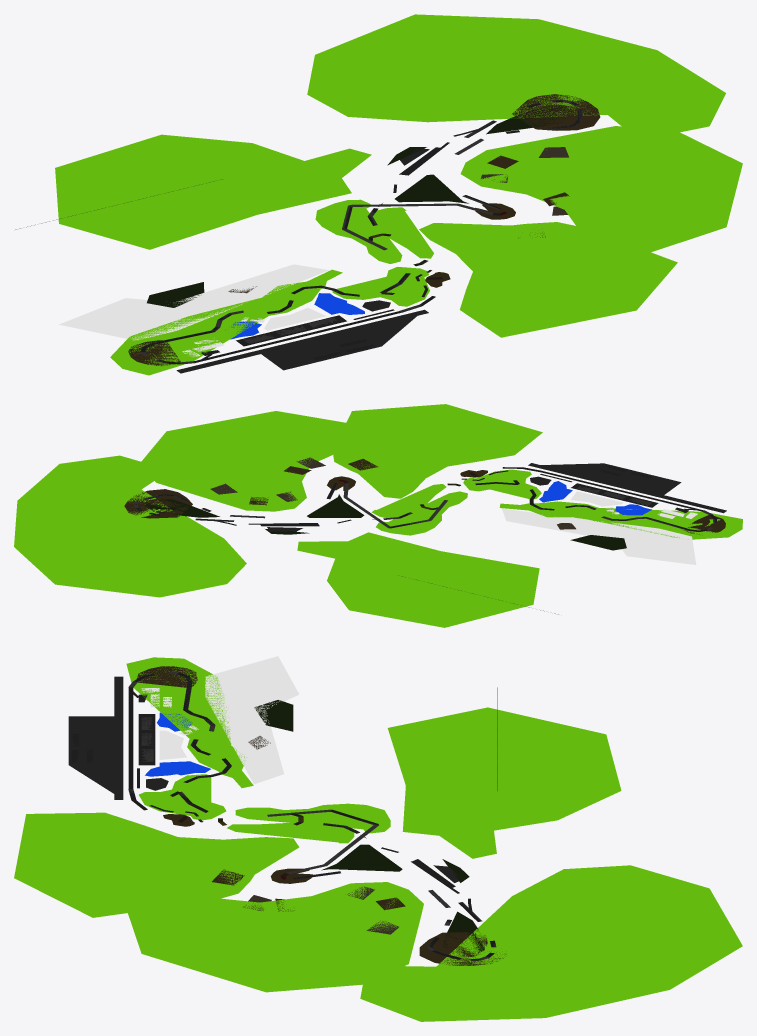
The model's file is suzuka.obj.
3 views of the same model, one above another, from view 1: azimuth 30°, elevation 25°; view 2: azimuth 150°, elevation 25°; view 3: azimuth 270°, elevation 25° (orthographic). The views are drawn at different scales.
Parts seen in each view (by area): view 1: ShapeIndexedFaceSet.009_ShapeIndexedFaceSet.010, ShapeIndexedFaceSet.010_ShapeIndexedFaceSet.011, ShapeIndexedFaceSet.008_ShapeIndexedFaceSet.009, ShapeIndexedFaceSet.007_ShapeIndexedFaceSet.008, ShapeIndexedFaceSet.003_ShapeIndexedFaceSet.004, ShapeIndexedFaceSet.017_ShapeIndexedFaceSet.018, ShapeIndexedFaceSet.285_ShapeIndexedFaceSet.286, ShapeIndexedFaceSet.005_ShapeIndexedFaceSet.006, ShapeIndexedFaceSet.033_ShapeIndexedFaceSet.034, ShapeIndexedFaceSet.004_ShapeIndexedFaceSet.005, ShapeIndexedFaceSet.006_ShapeIndexedFaceSet.007, ShapeIndexedFaceSet.028_ShapeIndexedFaceSet.029 (+6 smaller); view 2: ShapeIndexedFaceSet.009_ShapeIndexedFaceSet.010, ShapeIndexedFaceSet.010_ShapeIndexedFaceSet.011, ShapeIndexedFaceSet.008_ShapeIndexedFaceSet.009, ShapeIndexedFaceSet.007_ShapeIndexedFaceSet.008, ShapeIndexedFaceSet.017_ShapeIndexedFaceSet.018, ShapeIndexedFaceSet.003_ShapeIndexedFaceSet.004, ShapeIndexedFaceSet.285_ShapeIndexedFaceSet.286, ShapeIndexedFaceSet.005_ShapeIndexedFaceSet.006, ShapeIndexedFaceSet.004_ShapeIndexedFaceSet.005, ShapeIndexedFaceSet.033_ShapeIndexedFaceSet.034, ShapeIndexedFaceSet.006_ShapeIndexedFaceSet.007, ShapeIndexedFaceSet.028_ShapeIndexedFaceSet.029 (+7 smaller); view 3: ShapeIndexedFaceSet.009_ShapeIndexedFaceSet.010, ShapeIndexedFaceSet.010_ShapeIndexedFaceSet.011, ShapeIndexedFaceSet.008_ShapeIndexedFaceSet.009, ShapeIndexedFaceSet.007_ShapeIndexedFaceSet.008, ShapeIndexedFaceSet.017_ShapeIndexedFaceSet.018, ShapeIndexedFaceSet.003_ShapeIndexedFaceSet.004, ShapeIndexedFaceSet.285_ShapeIndexedFaceSet.286, ShapeIndexedFaceSet.005_ShapeIndexedFaceSet.006, ShapeIndexedFaceSet.004_ShapeIndexedFaceSet.005, ShapeIndexedFaceSet.006_ShapeIndexedFaceSet.007, ShapeIndexedFaceSet.033_ShapeIndexedFaceSet.034, ShapeIndexedFaceSet.028_ShapeIndexedFaceSet.029 (+7 smaller).
Part boxes in pixels (<box>): ShapeIndexedFaceSet.009_ShapeIndexedFaceSet.010: <box>307,14,725,140</box>; ShapeIndexedFaceSet.010_ShapeIndexedFaceSet.011: <box>55,134,371,249</box>; ShapeIndexedFaceSet.008_ShapeIndexedFaceSet.009: <box>460,126,742,254</box>; ShapeIndexedFaceSet.007_ShapeIndexedFaceSet.008: <box>419,222,677,337</box>; ShapeIndexedFaceSet.003_ShapeIndexedFaceSet.004: <box>110,269,342,375</box>; ShapeIndexedFaceSet.017_ShapeIndexedFaceSet.018: <box>59,264,328,340</box>; ShapeIndexedFaceSet.285_ShapeIndexedFaceSet.286: <box>176,309,428,373</box>; ShapeIndexedFaceSet.005_ShapeIndexedFaceSet.006: <box>315,199,402,263</box>; ShapeIndexedFaceSet.033_ShapeIndexedFaceSet.034: <box>512,94,600,130</box>; ShapeIndexedFaceSet.004_ShapeIndexedFaceSet.005: <box>332,267,429,306</box>; ShapeIndexedFaceSet.006_ShapeIndexedFaceSet.007: <box>373,207,433,258</box>; ShapeIndexedFaceSet.028_ShapeIndexedFaceSet.029: <box>395,174,468,203</box>; ShapeIndexedFaceSet.009_ShapeIndexedFaceSet.010: <box>14,455,246,597</box>; ShapeIndexedFaceSet.010_ShapeIndexedFaceSet.011: <box>297,532,539,627</box>; ShapeIndexedFaceSet.008_ShapeIndexedFaceSet.009: <box>141,411,352,511</box>; ShapeIndexedFaceSet.007_ShapeIndexedFaceSet.008: <box>333,404,542,498</box>; ShapeIndexedFaceSet.017_ShapeIndexedFaceSet.018: <box>502,508,696,564</box>; ShapeIndexedFaceSet.003_ShapeIndexedFaceSet.004: <box>499,501,742,539</box>; ShapeIndexedFaceSet.285_ShapeIndexedFaceSet.286: <box>528,463,726,513</box>; ShapeIndexedFaceSet.005_ShapeIndexedFaceSet.006: <box>376,491,467,535</box>; ShapeIndexedFaceSet.004_ShapeIndexedFaceSet.005: <box>463,469,541,499</box>; ShapeIndexedFaceSet.033_ShapeIndexedFaceSet.034: <box>124,489,192,518</box>; ShapeIndexedFaceSet.006_ShapeIndexedFaceSet.007: <box>371,484,446,517</box>; ShapeIndexedFaceSet.028_ShapeIndexedFaceSet.029: <box>307,494,364,517</box>; ShapeIndexedFaceSet.009_ShapeIndexedFaceSet.010: <box>360,865,742,1021</box>; ShapeIndexedFaceSet.010_ShapeIndexedFaceSet.011: <box>387,707,621,858</box>; ShapeIndexedFaceSet.008_ShapeIndexedFaceSet.009: <box>128,882,423,992</box>; ShapeIndexedFaceSet.007_ShapeIndexedFaceSet.008: <box>14,812,299,917</box>; ShapeIndexedFaceSet.017_ShapeIndexedFaceSet.018: <box>205,656,299,784</box>; ShapeIndexedFaceSet.003_ShapeIndexedFaceSet.004: <box>126,657,253,787</box>; ShapeIndexedFaceSet.285_ShapeIndexedFaceSet.286: <box>68,676,123,799</box>; ShapeIndexedFaceSet.005_ShapeIndexedFaceSet.006: <box>235,803,390,833</box>; ShapeIndexedFaceSet.004_ShapeIndexedFaceSet.005: <box>139,774,226,820</box>; ShapeIndexedFaceSet.006_ShapeIndexedFaceSet.007: <box>227,821,354,843</box>; ShapeIndexedFaceSet.033_ShapeIndexedFaceSet.034: <box>419,932,506,965</box>; ShapeIndexedFaceSet.028_ShapeIndexedFaceSet.029: <box>321,844,402,871</box>.
Size of what is drawn, in the model's own units: 2850 by 0.3003 by 2400.
